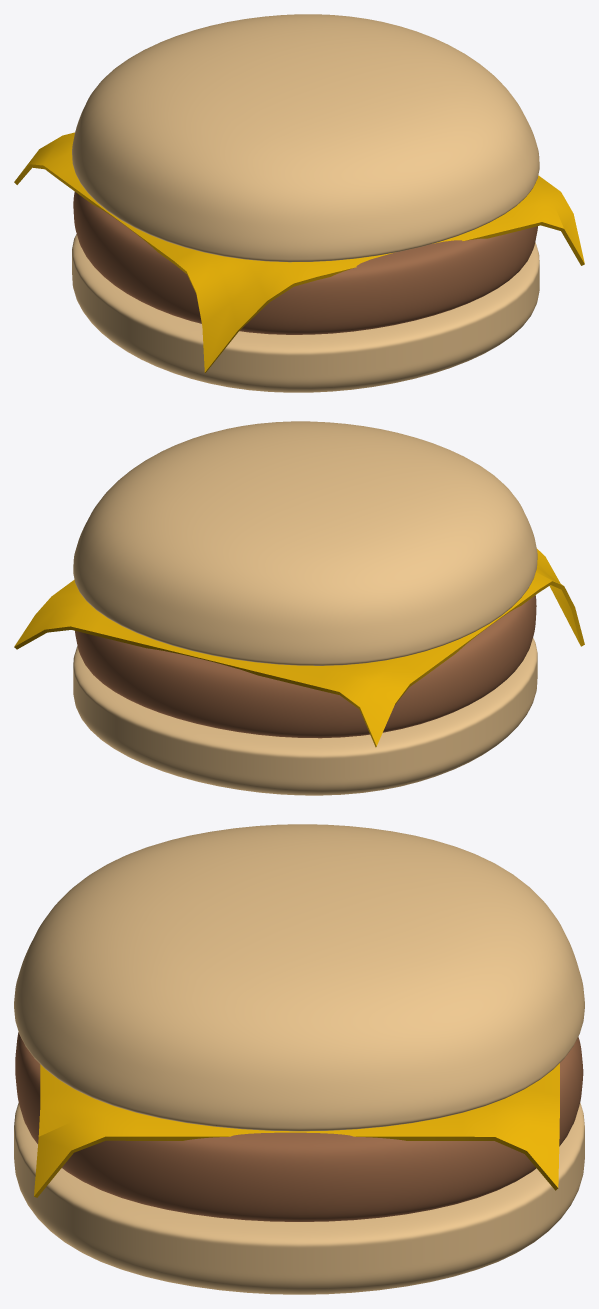
Rendered from hamburger.glb.
The picture shows the model from 3 angles, top to bottom: view 1: azimuth 30°, elevation 25°; view 2: azimuth 150°, elevation 25°; view 3: azimuth 270°, elevation 25°; orthographic projection. The views are drawn at different scales.
Parts seen in each view (by area): view 1: Cube.003, Cube.001, Cube.002, Plane; view 2: Cube.003, Cube.001, Cube.002, Plane; view 3: Cube.003, Cube.001, Cube.002, Plane.
Boxes of the visible parts, x1,y1,x2,y2 form: Cube.003: (72,14,539,262); Cube.001: (72,234,539,392); Cube.002: (73,192,537,334); Plane: (14,132,584,372); Cube.003: (73,421,537,665); Cube.001: (73,638,537,795); Cube.002: (75,595,536,738); Plane: (14,548,584,747); Cube.003: (14,824,584,1131); Cube.001: (14,1103,584,1294); Cube.002: (15,1032,583,1221); Plane: (34,1063,559,1197).
Bounding box in the file's own units: 9.13 × 5.55 × 9.13.
